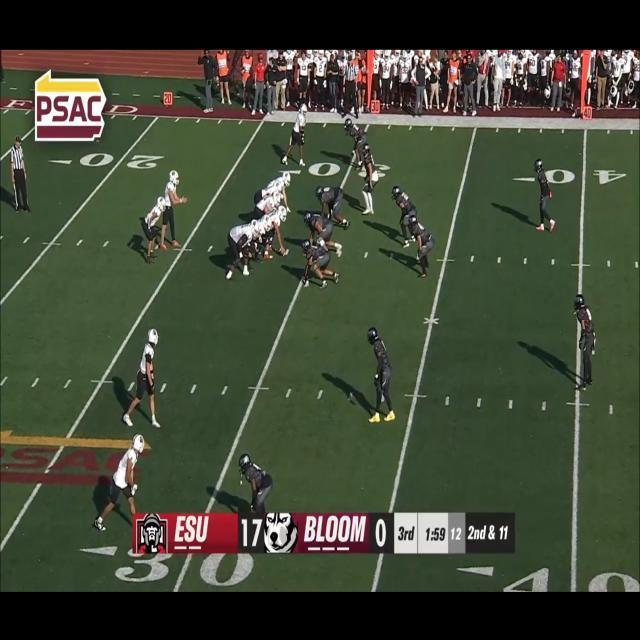football: (275, 245, 289, 257)
